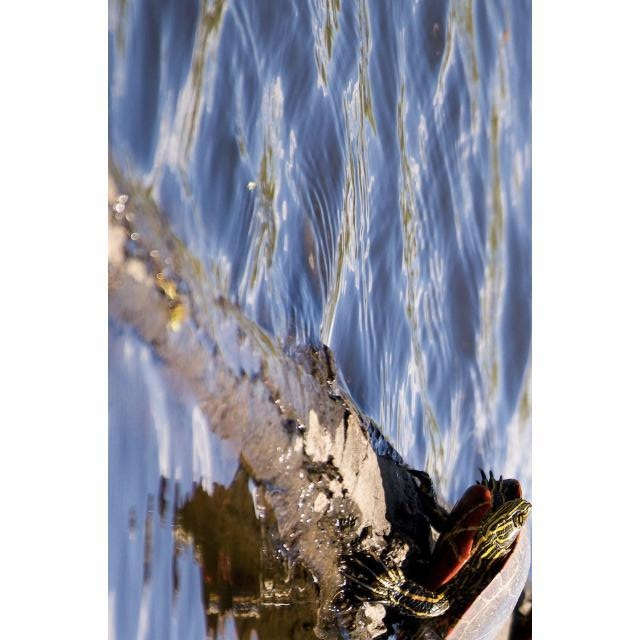turtle: (342, 469, 530, 639)
